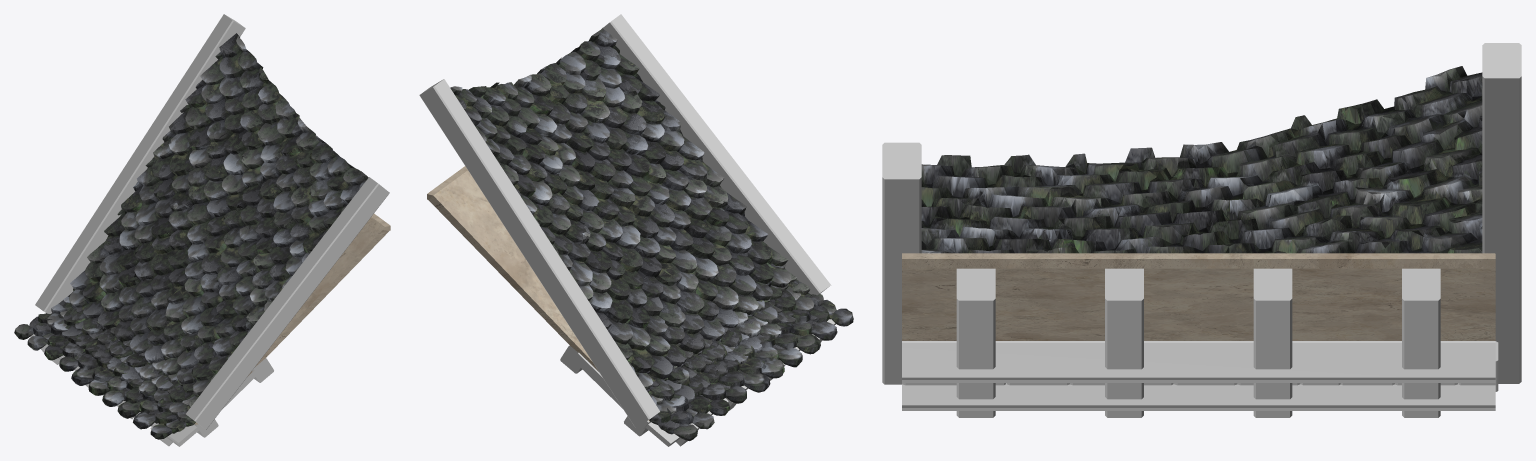
Rendered from SM_Roof_A_04.fbx.
3 renders of one model, left to right at view 1: azimuth 30°, elevation 25°; view 2: azimuth 150°, elevation 25°; view 3: azimuth 270°, elevation 25°, orthographic. The views are drawn at different scales.
Parts seen in each view (by area): view 1: SM_Roof_A_04_LOD0; view 2: SM_Roof_A_04_LOD0; view 3: SM_Roof_A_04_LOD0.
Part boxes in pixels (x1,y1,x2,y2): SM_Roof_A_04_LOD0: (14, 14, 390, 446); SM_Roof_A_04_LOD0: (419, 14, 853, 446); SM_Roof_A_04_LOD0: (882, 43, 1521, 417).
Bounding box in the file's own units: 371 × 426 × 416.
